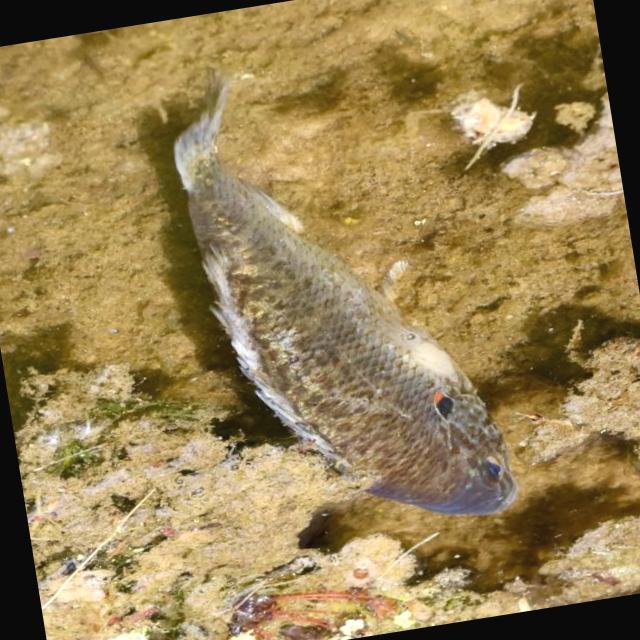Gunes Levregi: (116, 34, 545, 580)
